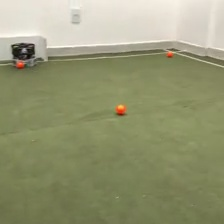ball: (115, 102, 126, 115), (15, 60, 24, 69), (166, 49, 173, 57)
goal: (1, 34, 48, 64)
robot: (10, 41, 37, 69)
